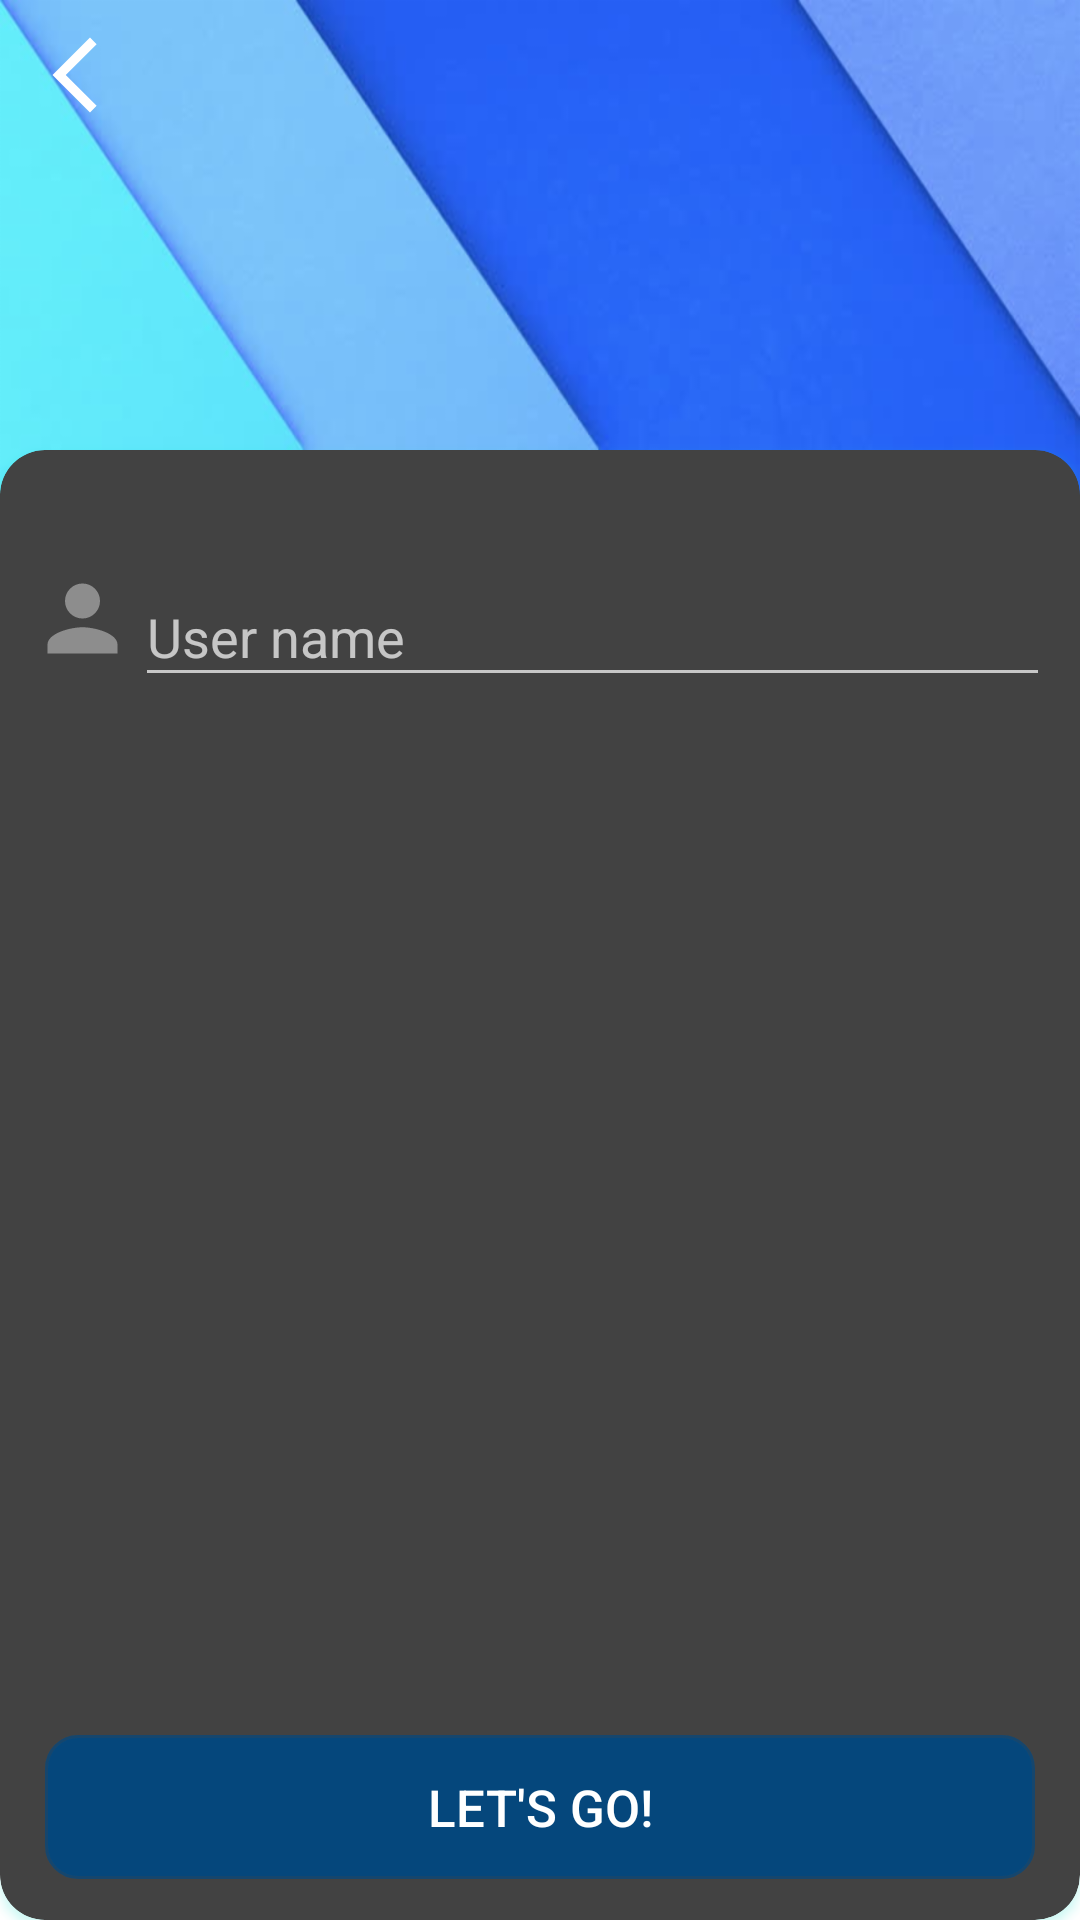

Icons on this 1080×1920 Android screen, each with the point to tap as (x,y):
arrow back: (75,75)
person: (82,618)
